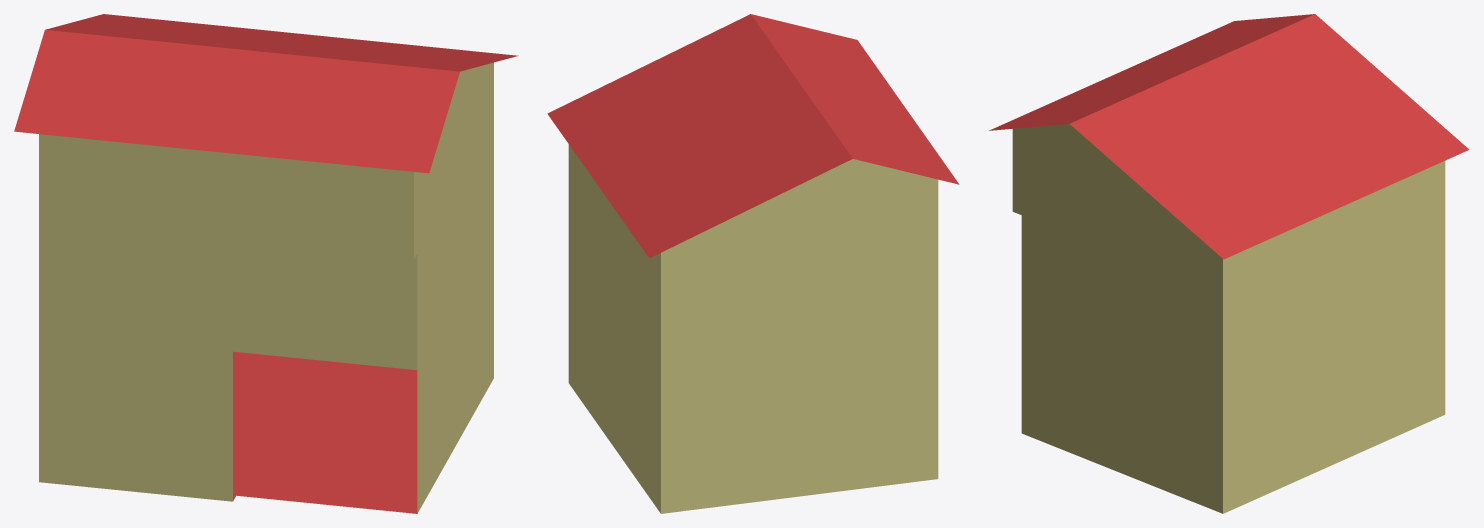
The picture shows the model from 3 angles, left to right: view 1: azimuth 30°, elevation 25°; view 2: azimuth 150°, elevation 25°; view 3: azimuth 270°, elevation 25°; orthographic projection. The views are drawn at different scales.
Bounding box in the file's own units: 14 × 13.96 × 10.84.
